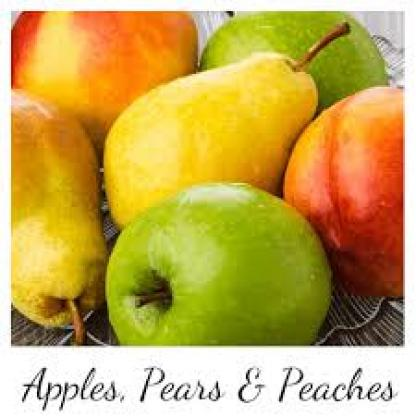apple: (116, 194, 333, 364), (109, 43, 307, 229), (8, 89, 127, 320), (281, 94, 403, 294), (11, 9, 185, 124), (201, 21, 382, 108)
